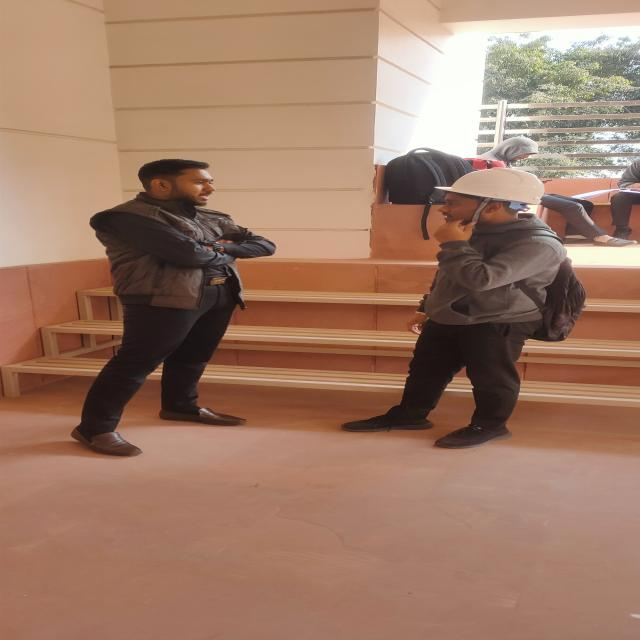no jacket: (361, 169, 579, 447)
unsafe: (70, 159, 256, 457)
